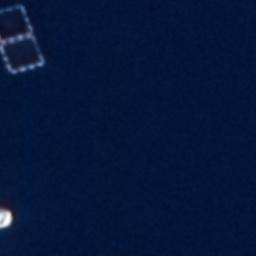square_solid: (1, 32, 46, 77), (1, 1, 38, 47)
